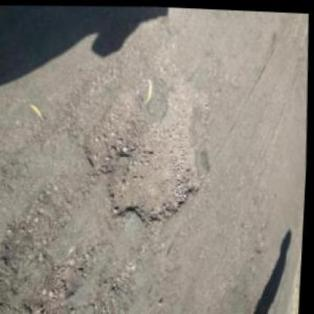Hueco: (76, 59, 217, 228)
